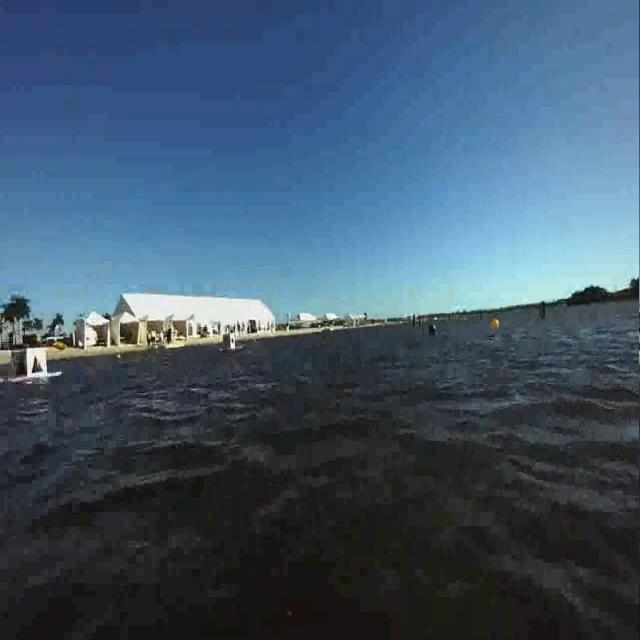blue-buoy: (428, 320, 438, 338)
yellow-buoy: (491, 317, 501, 331)
